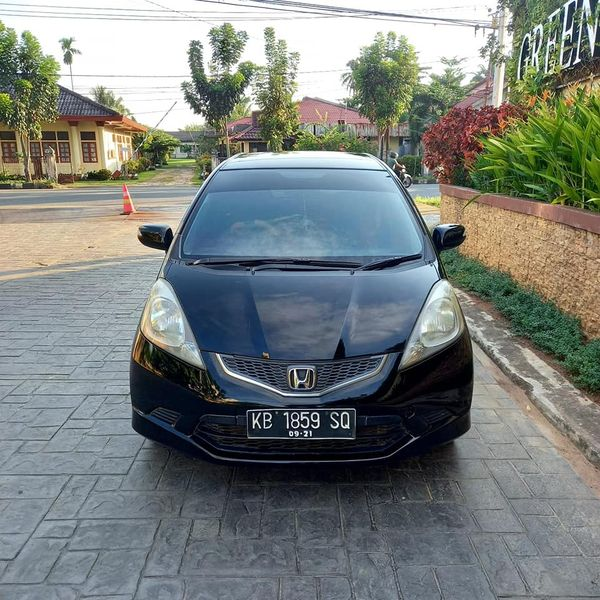plate: (245, 407, 360, 439)
